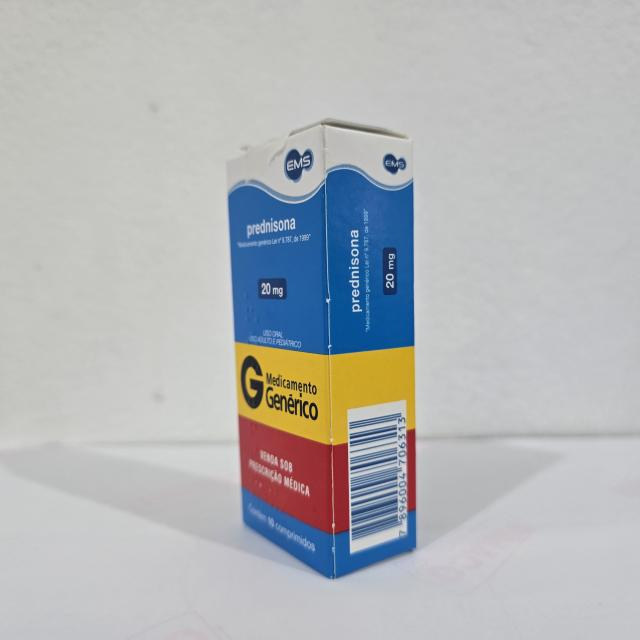prednisona: (220, 111, 422, 584)
